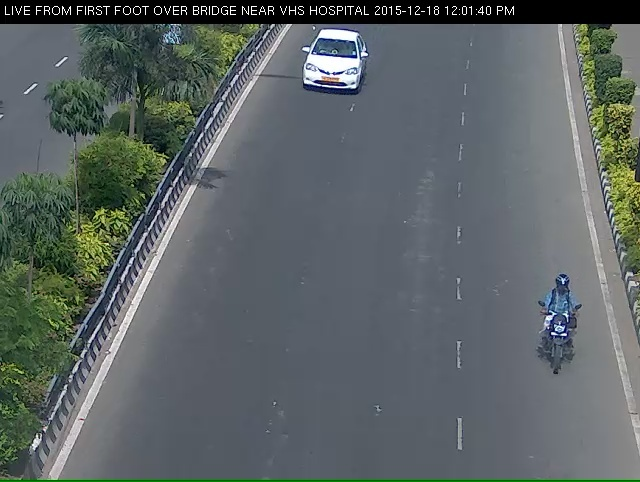Car: (292, 37, 361, 108)
Person: (534, 287, 587, 403)
